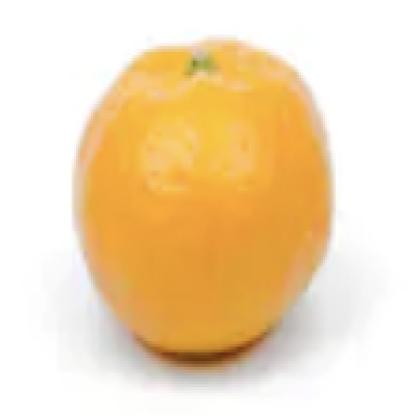fresh: (81, 41, 334, 361)
